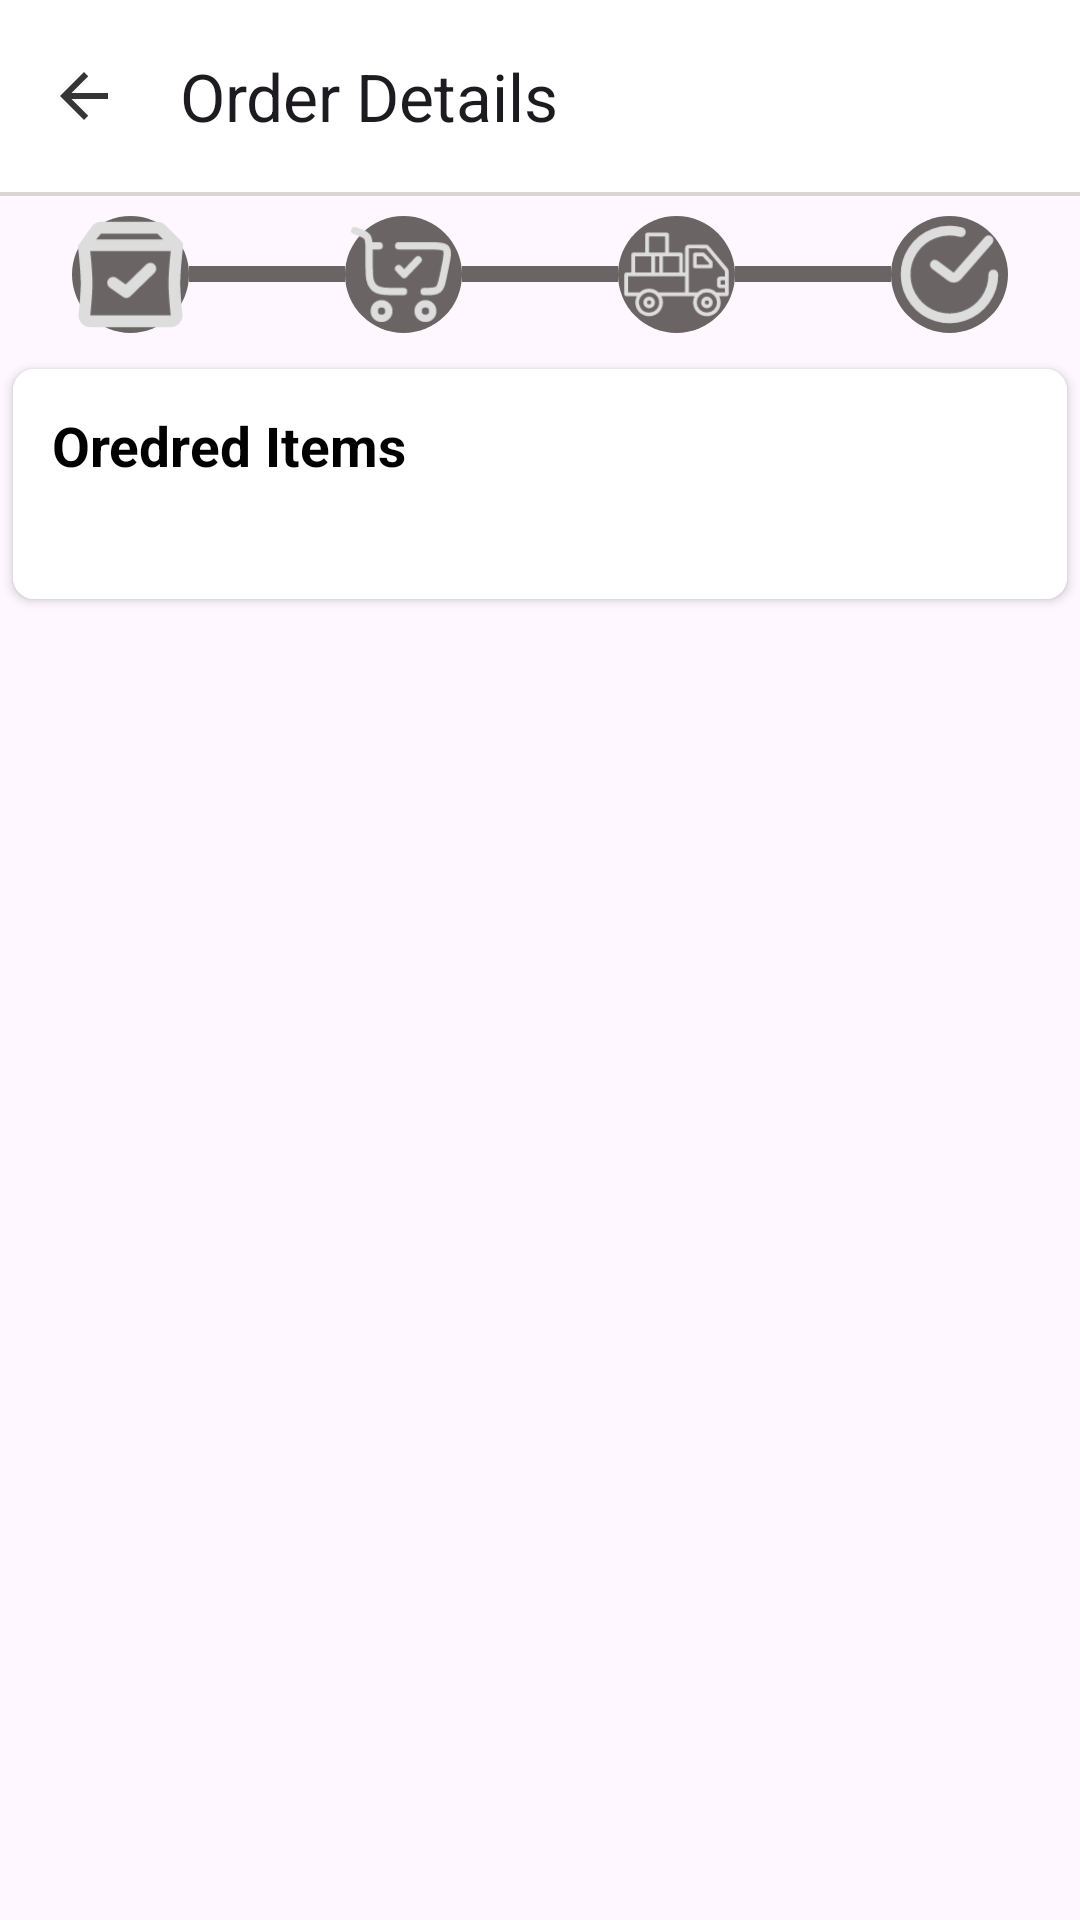

Where icons sit on this 1080*1920 app screen, as (x1, y1, x2, y2):
del vehicle: (618, 216, 735, 333)
done: (891, 216, 1008, 333)
